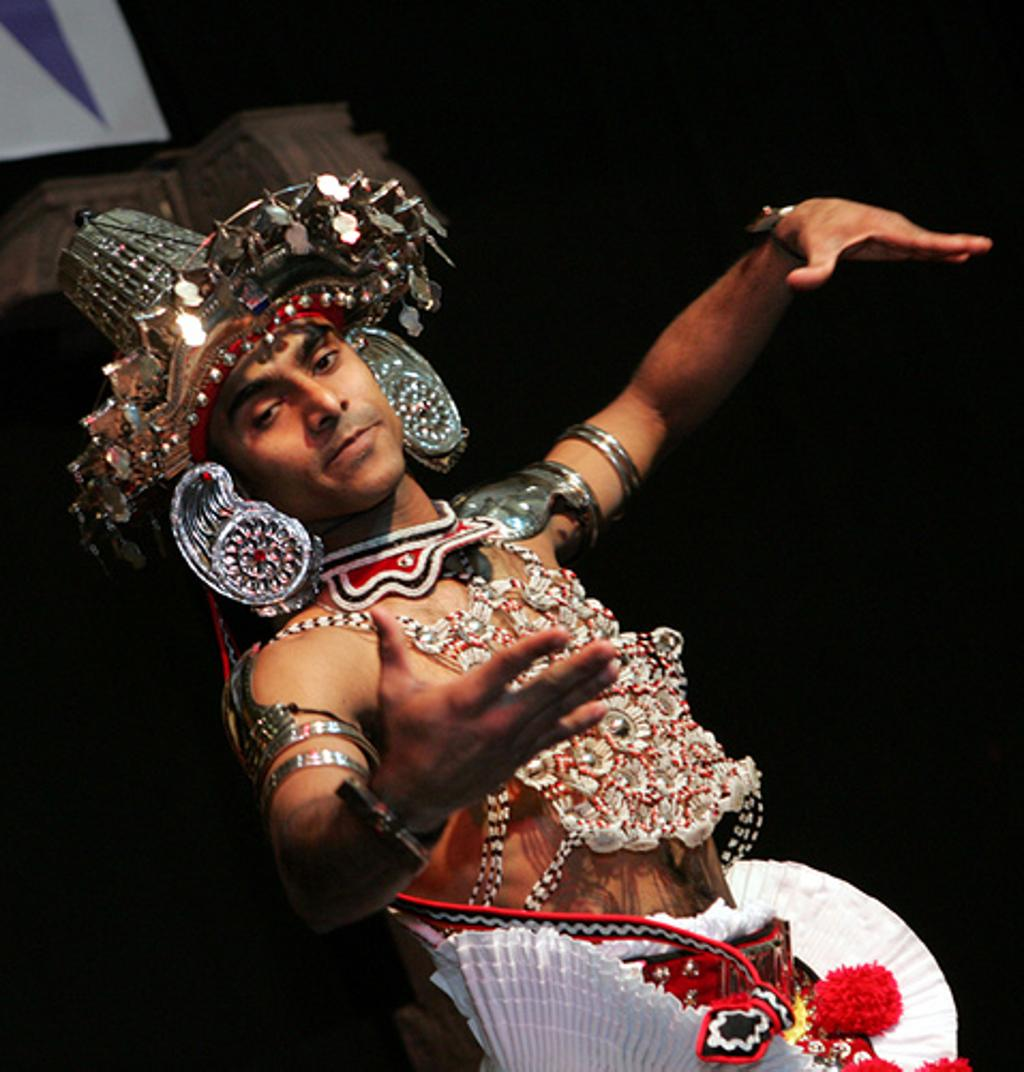face: (209, 322, 410, 504)
